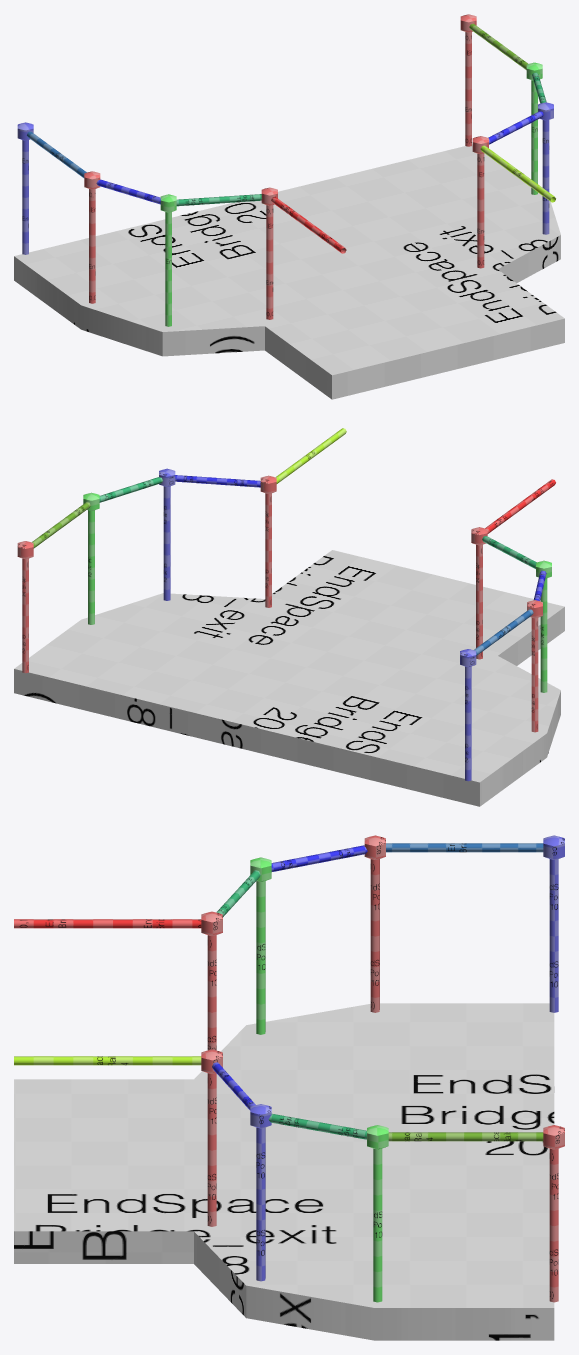
Rendered from Bridge_exit.fbx.
3 renders of one model, top to bottom at view 1: azimuth 30°, elevation 25°; view 2: azimuth 150°, elevation 25°; view 3: azimuth 270°, elevation 25°, orthographic. The views are drawn at different scales.
Parts seen in each view (by area): view 1: bridge_exit_floor, bridge_exit; view 2: bridge_exit_floor, bridge_exit; view 3: bridge_exit_floor, bridge_exit.
Boxes of the visible parts, x1,y1,x2,y2 form: bridge_exit_floor: (14,144,564,399); bridge_exit: (17,14,555,326); bridge_exit_floor: (14,550,564,806); bridge_exit: (17,428,555,781); bridge_exit_floor: (14,1003,554,1340); bridge_exit: (14,835,564,1302).
Size of the model in its own units: 400 by 126 by 306.
